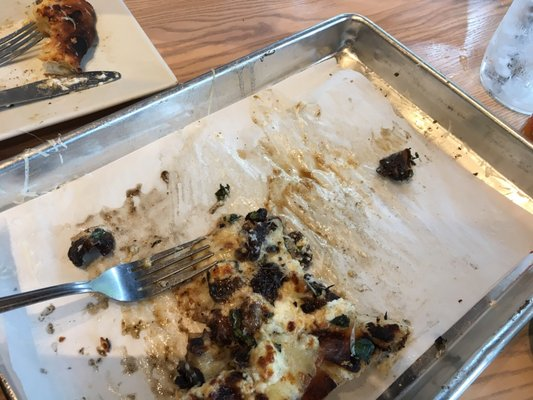burger: (0, 219, 245, 316)
